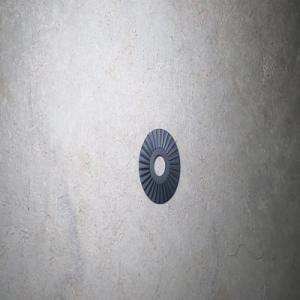Washer: (139, 127, 180, 203)
